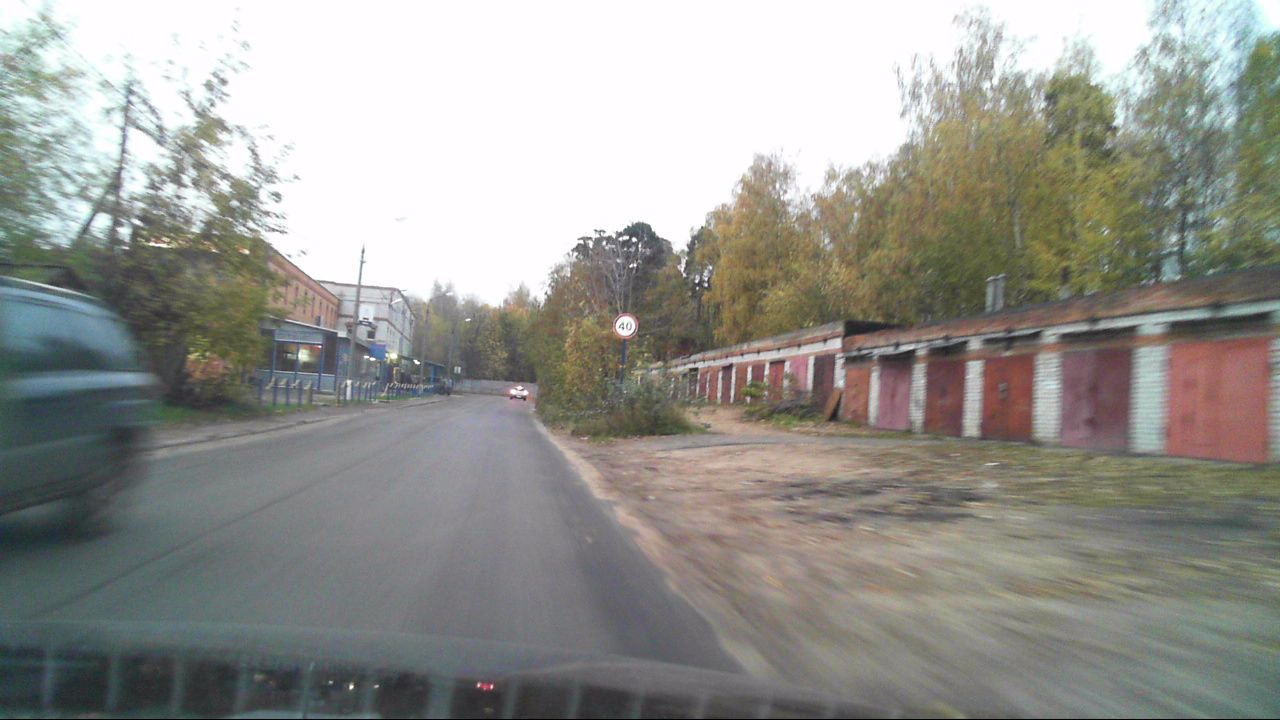speed_warning_40: (614, 314, 638, 337)
